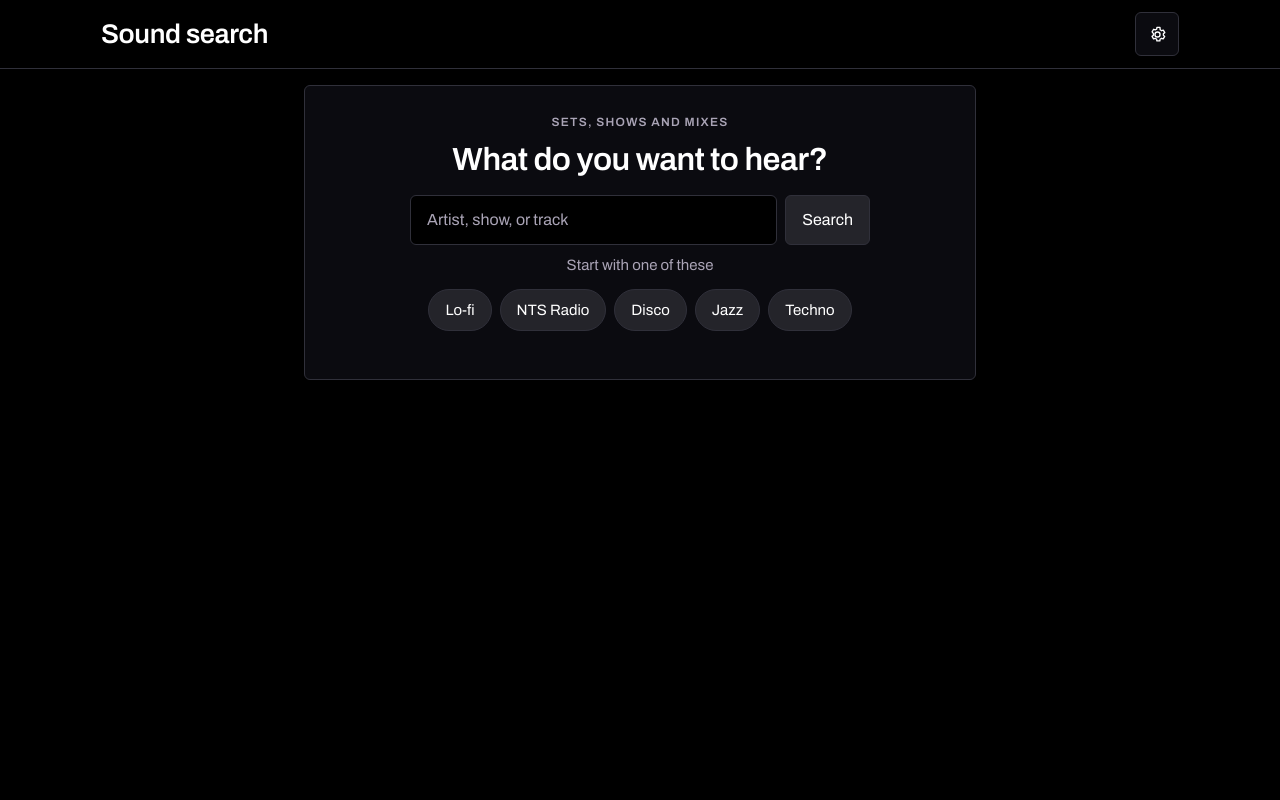
Scenario: App › still shows the board when a search found nothing
Type "adele" into the search field named "search tracks".
click(594, 220); type("adele")  # box [410,195,777,245]
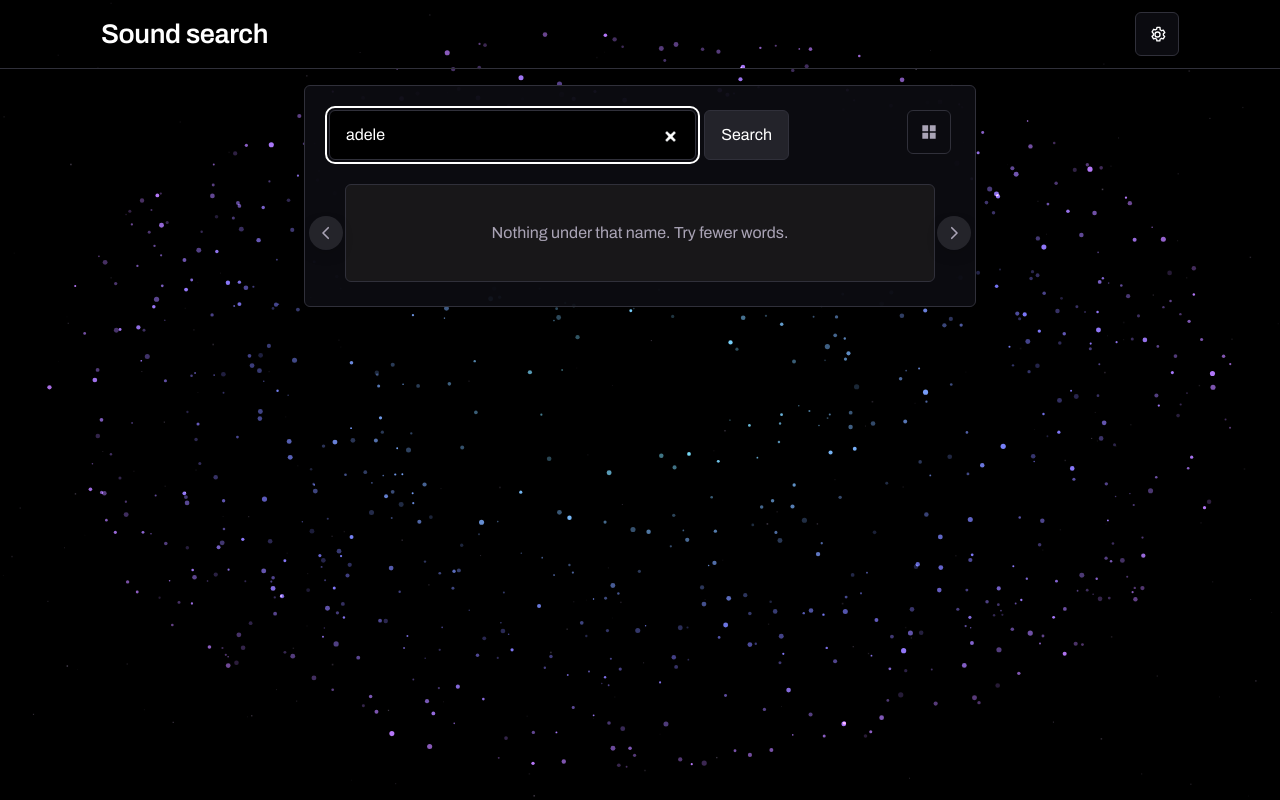
Result: the text "Nothing under that name. Try fewer words." is shown at [492,224,788,241]
